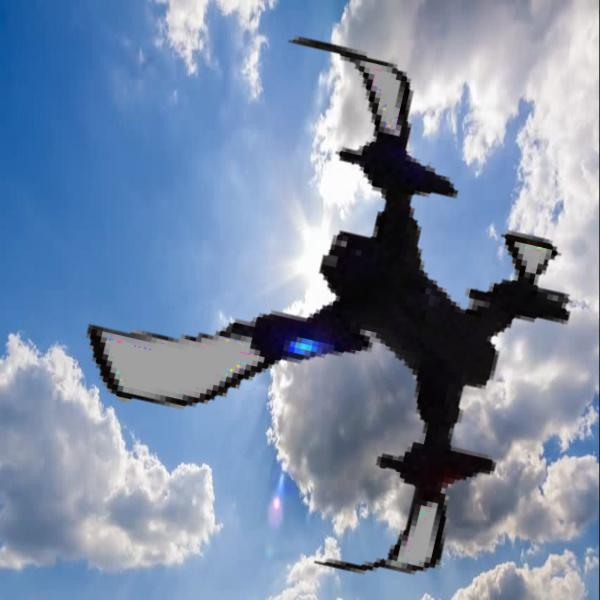drone: (46, 25, 592, 571)
